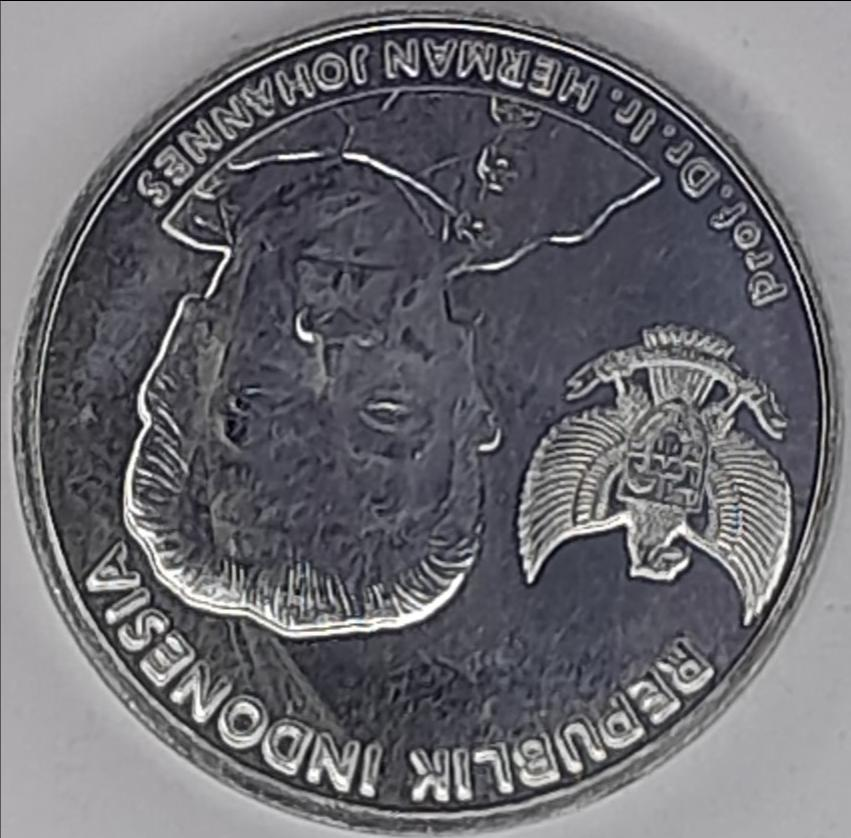coin_100_e2016: (6, 1, 847, 835)
